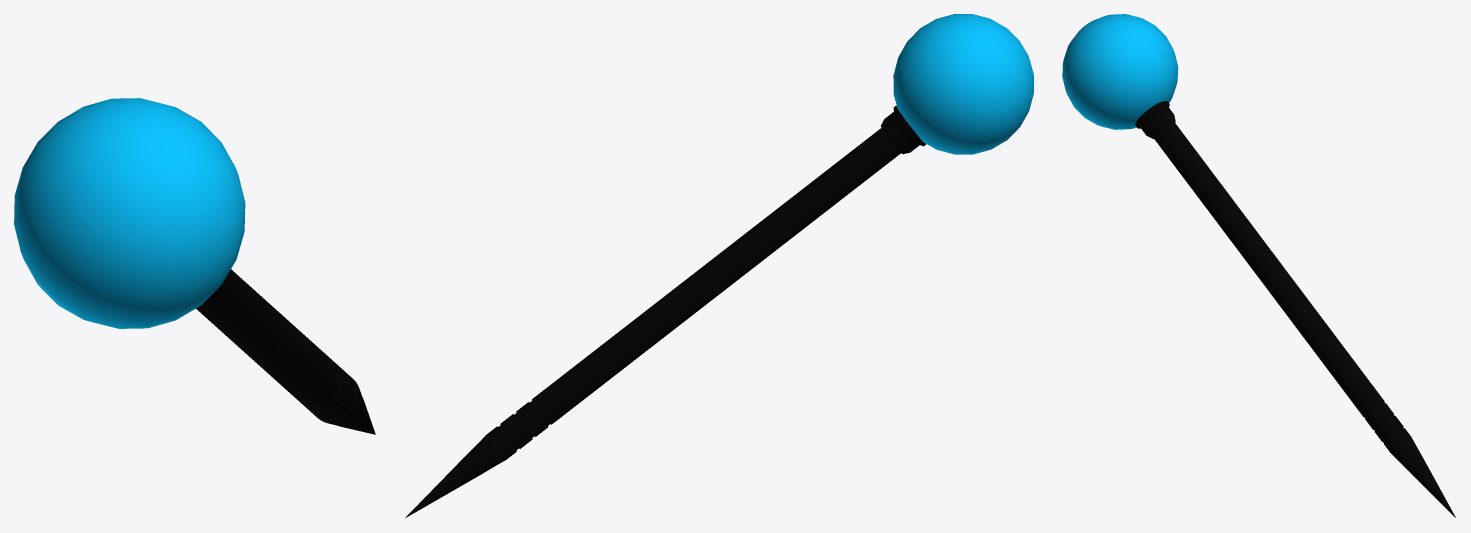
Rendered from DEEPSKYBLUE.glb.
3 renders of one model, left to right at view 1: azimuth 30°, elevation 25°; view 2: azimuth 150°, elevation 25°; view 3: azimuth 270°, elevation 25°, orthographic. The views are drawn at different scales.
Visible parts, largest first — view 1: Sphere, Needle; view 2: Needle, Sphere, Ball_Holder; view 3: Needle, Sphere, Ball_Holder.
Part boxes in pixels (left/top/right/bottom): Sphere: left=14, top=98, right=245, bottom=328; Needle: left=196, top=269, right=375, bottom=434; Needle: left=405, top=128, right=900, bottom=518; Sphere: left=893, top=14, right=1033, bottom=154; Ball_Holder: left=881, top=105, right=926, bottom=154; Needle: left=1152, top=120, right=1455, bottom=517; Sphere: left=1062, top=14, right=1178, bottom=129; Ball_Holder: left=1135, top=101, right=1175, bottom=138.
Size of the model in its own units: 7.45 by 7.45 by 7.45.
